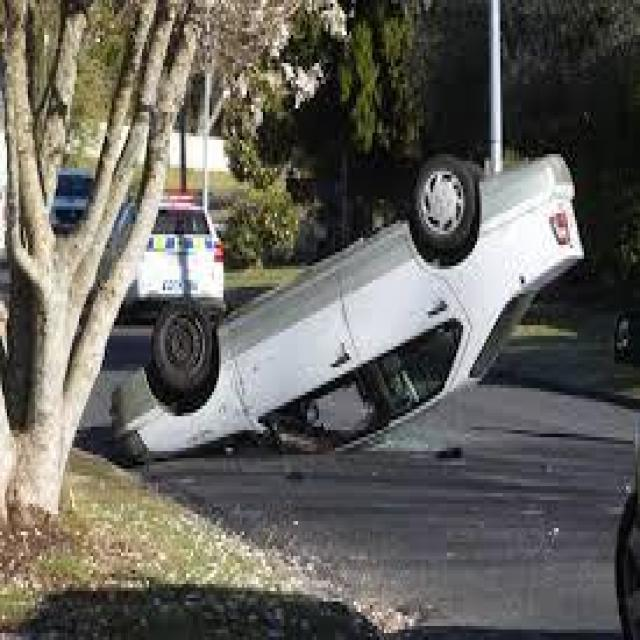severe: (105, 131, 589, 474)
